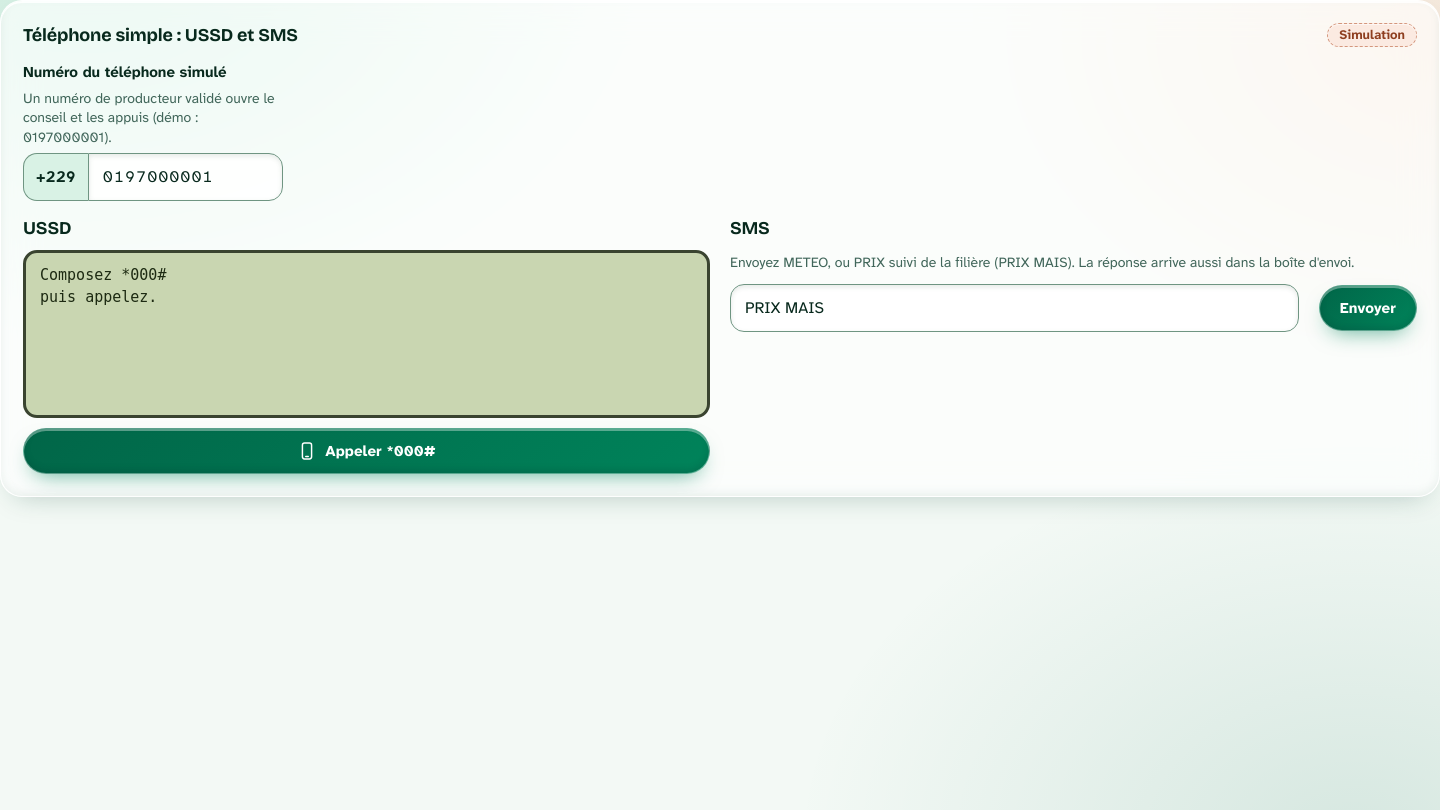
it: Téléphone simple (simulateur) › annonce les passerelles fermées hors mode démonstration
Click the button "Appeler *000#" at (366, 451), box [23,428,710,474]
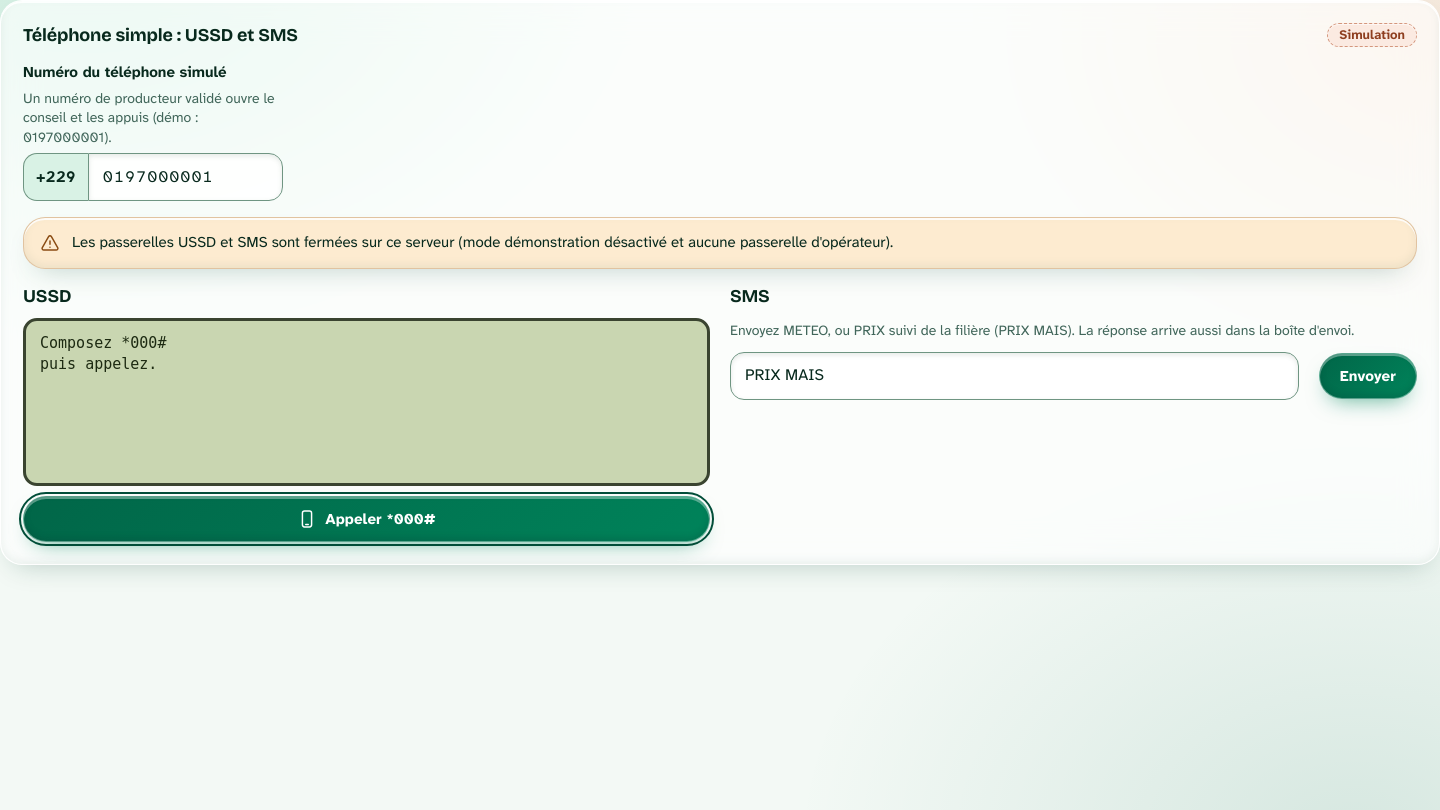
Expected: the text "passerelles USSD et SMS sont fermées" is shown, [72,232,893,252]
